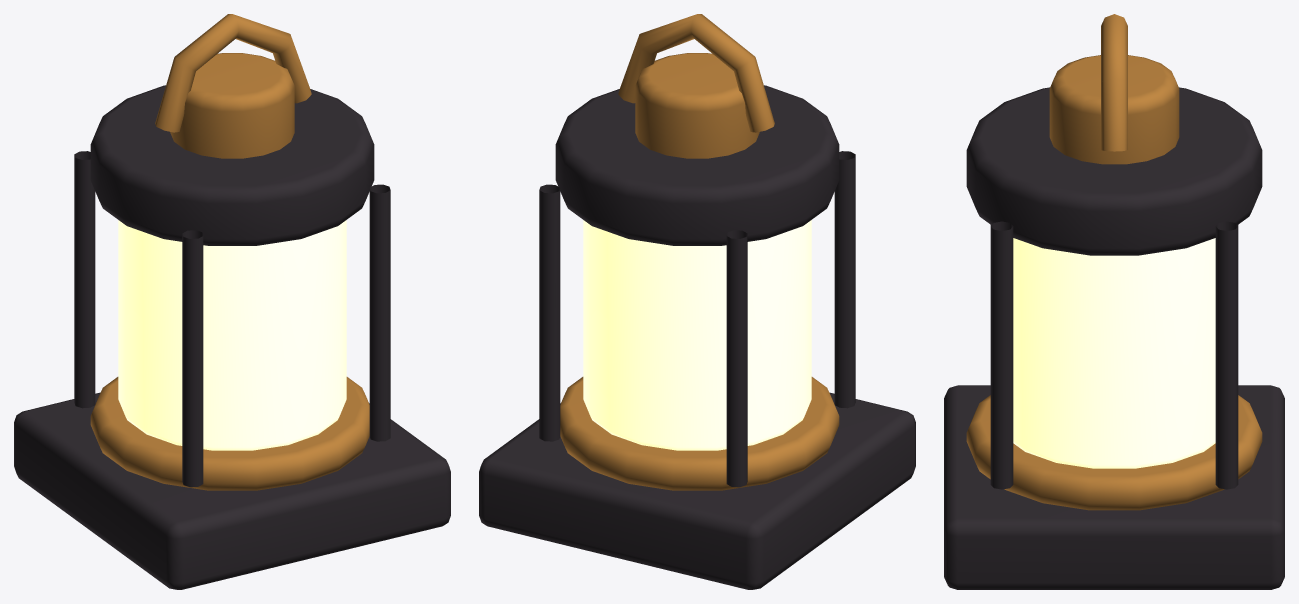
File: kitchen-task-lantern.glb
3 renders of one model, left to right at view 1: azimuth 30°, elevation 25°; view 2: azimuth 150°, elevation 25°; view 3: azimuth 270°, elevation 25°, orthographic. The views are drawn at different scales.
Visible parts, largest first — view 1: kitchen_task_lantern_pivot_Mesh; view 2: kitchen_task_lantern_pivot_Mesh; view 3: kitchen_task_lantern_pivot_Mesh.
Boxes of the visible parts, x1,y1,x2,y2 form: kitchen_task_lantern_pivot_Mesh: [14, 14, 450, 589]; kitchen_task_lantern_pivot_Mesh: [479, 14, 915, 589]; kitchen_task_lantern_pivot_Mesh: [944, 14, 1284, 589].
Size of the model in its own units: 0.3 by 0.4945 by 0.3.
